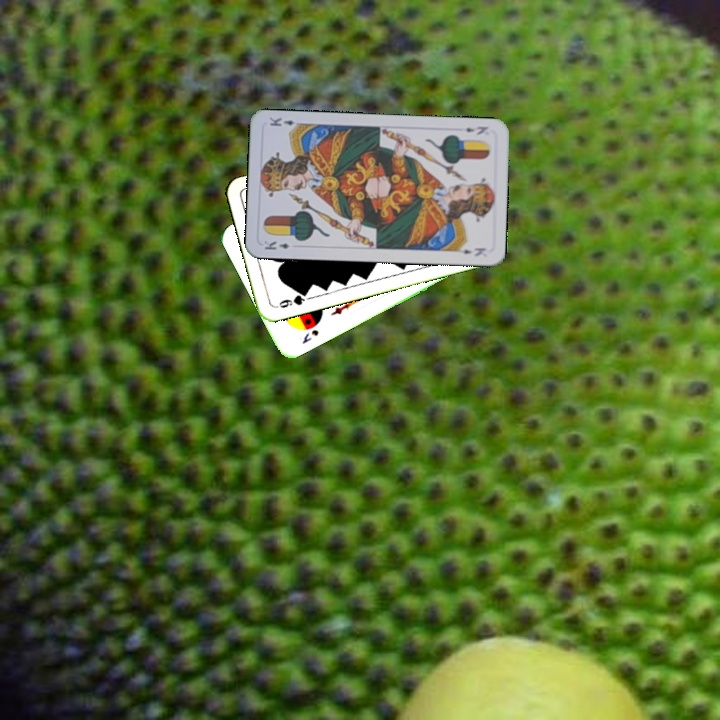EK: (260, 237, 292, 252), (461, 122, 490, 137)
G9: (271, 288, 310, 311)
SK: (298, 325, 321, 346)
